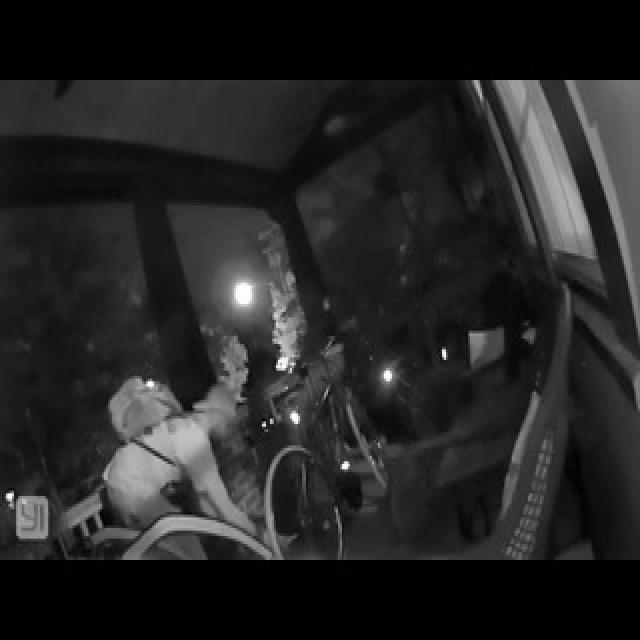thief: (102, 377, 270, 565)
